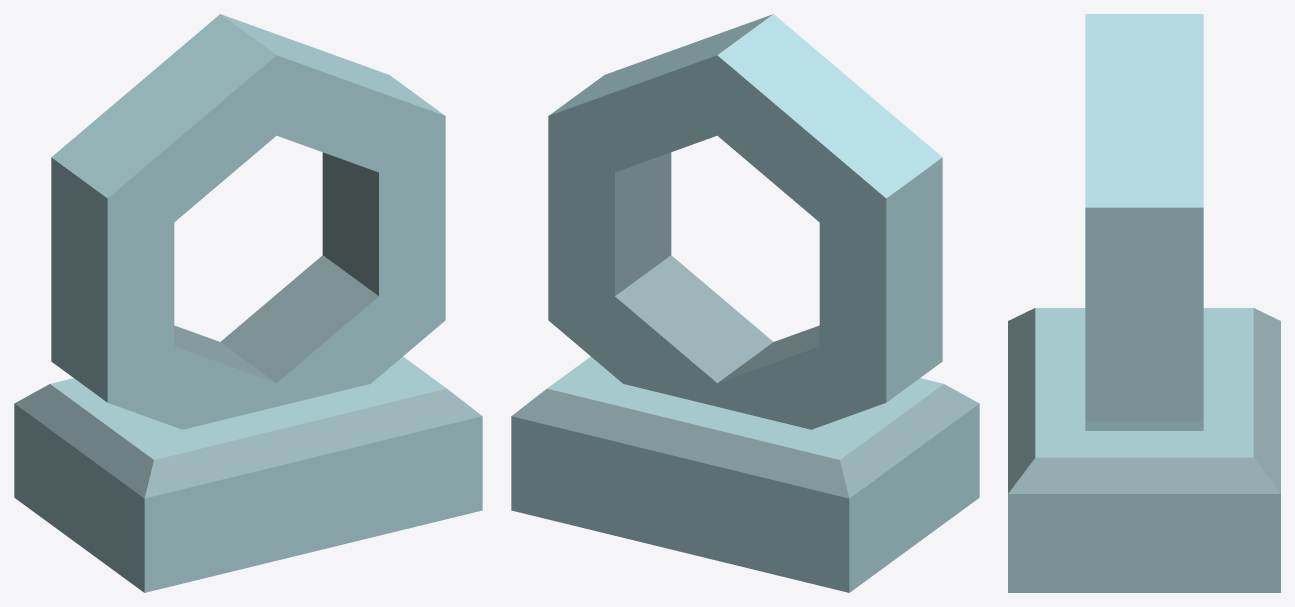
The model's file is statue_ring.dae.
The picture shows the model from 3 angles, left to right: view 1: azimuth 30°, elevation 25°; view 2: azimuth 150°, elevation 25°; view 3: azimuth 270°, elevation 25°; orthographic projection. The views are drawn at different scales.
Visible parts, largest first — view 1: statue_ring; view 2: statue_ring; view 3: statue_ring.
Part boxes in pixels (x1,y1,x2,y2): statue_ring: (14,14,482,592); statue_ring: (511,14,979,592); statue_ring: (1008,14,1280,592).
Size of the model in its own units: 0.6 by 0.7964 by 0.4.
